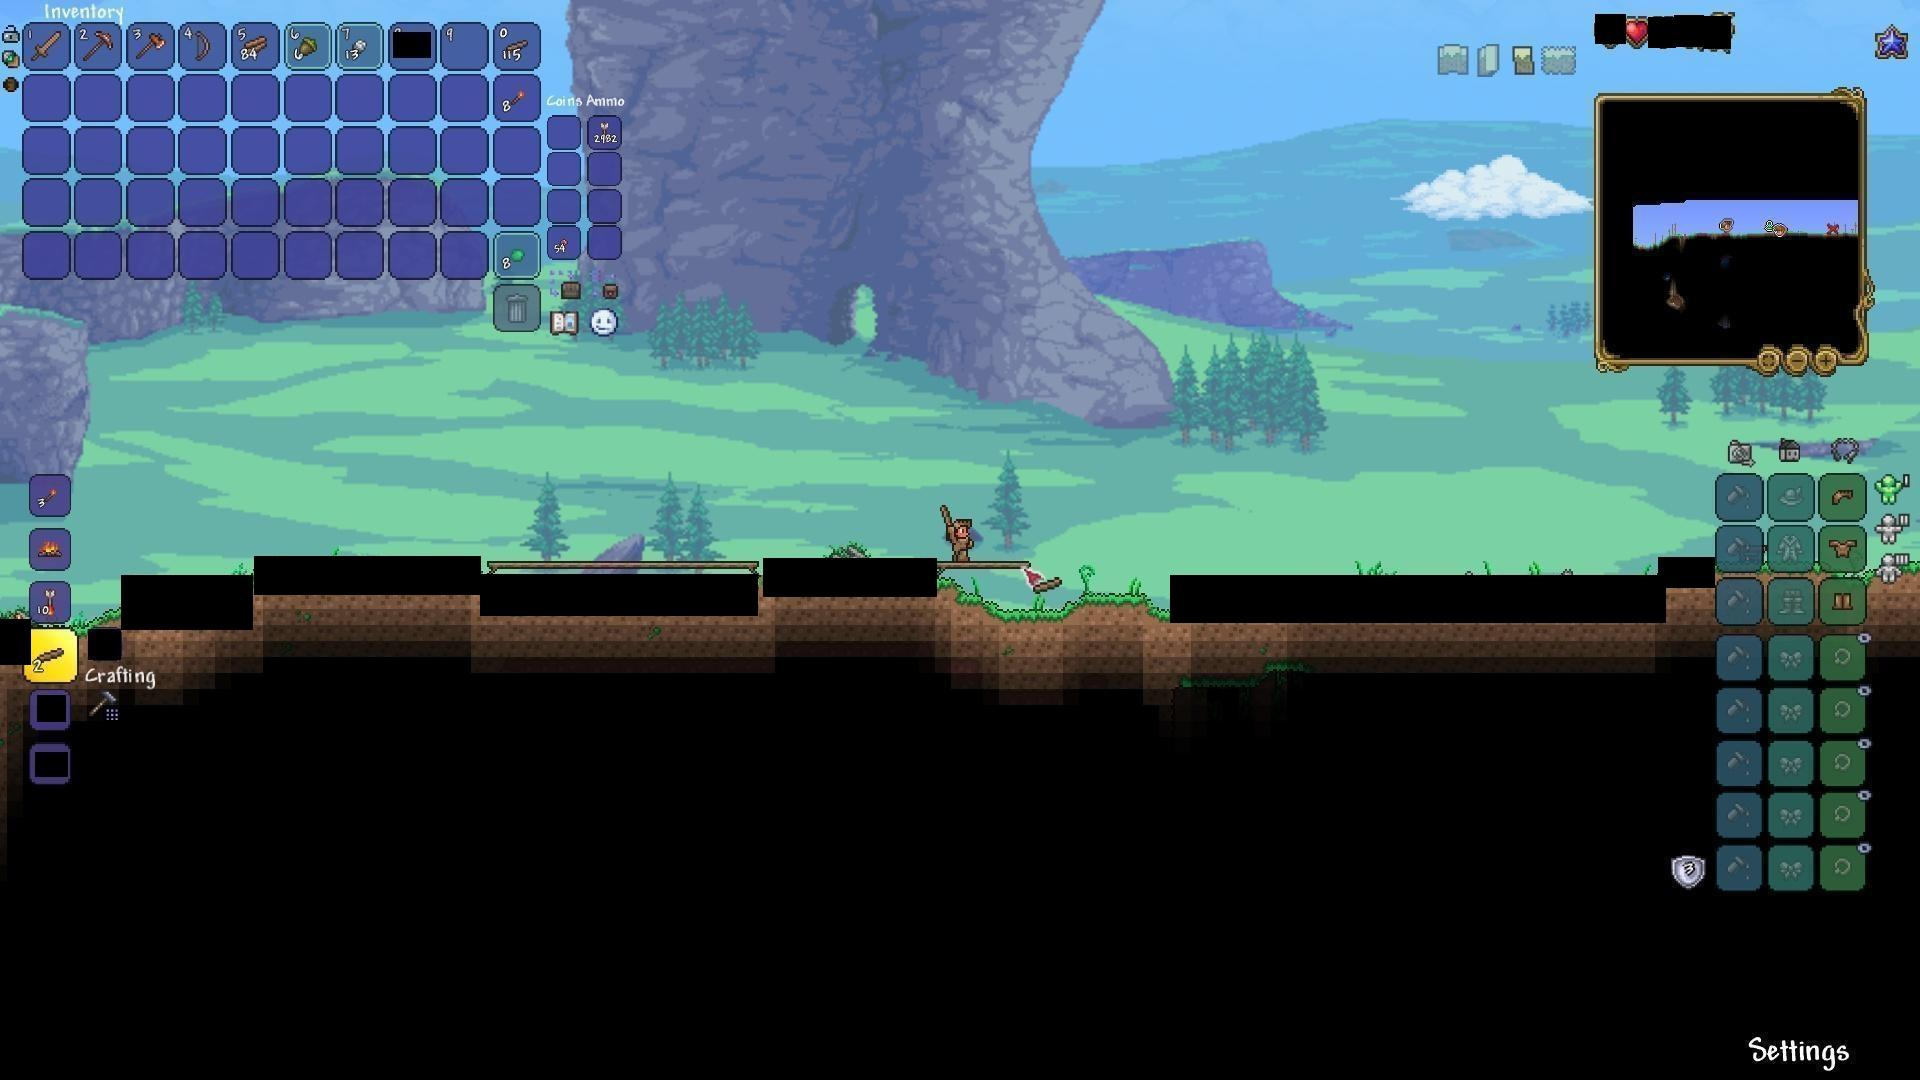breastplate: (1830, 537, 1859, 559)
dirt: (947, 589, 1166, 630)
heart: (1625, 17, 1651, 46)
helmet: (1829, 485, 1858, 510)
legs: (1832, 587, 1857, 616)
wood: (241, 33, 270, 59)
